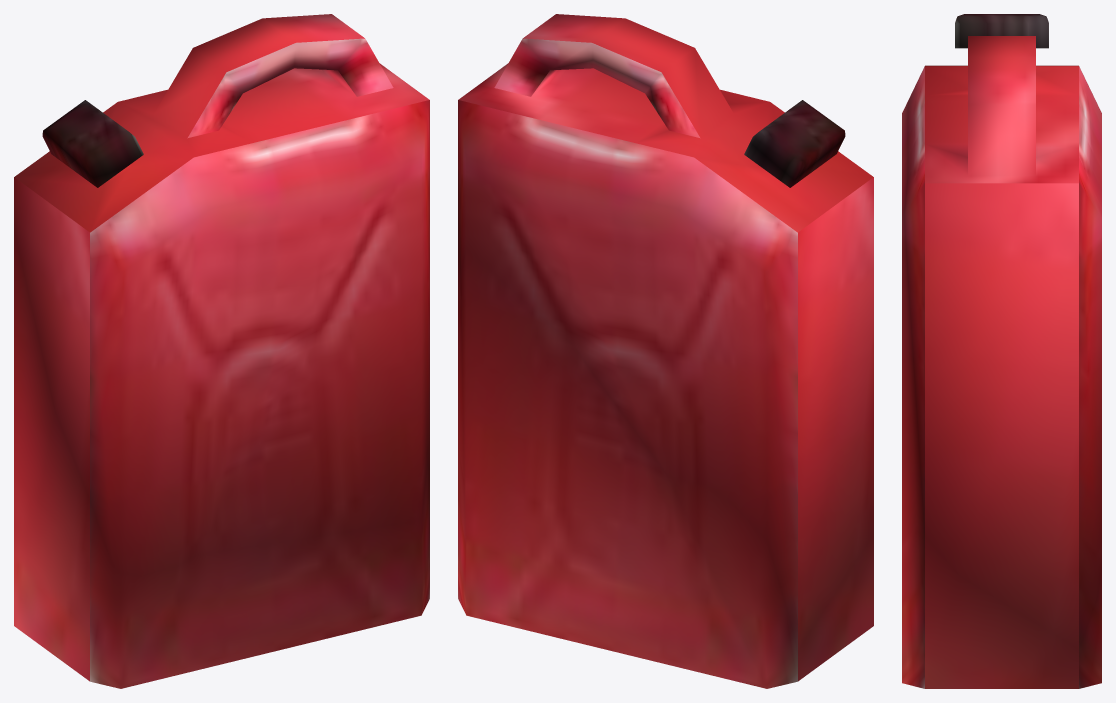
The model's file is gas_canister.FBX.
The picture shows the model from 3 angles, left to right: view 1: azimuth 30°, elevation 25°; view 2: azimuth 150°, elevation 25°; view 3: azimuth 270°, elevation 25°; orthographic projection.
Visible parts, largest first — view 1: gas_canister; view 2: gas_canister; view 3: gas_canister.
Part boxes in pixels (<box>): gas_canister: <box>14,14,429,688</box>; gas_canister: <box>458,14,873,688</box>; gas_canister: <box>902,14,1101,688</box>.
Size of the model in its own units: 24.23 by 38.97 by 12.17.
